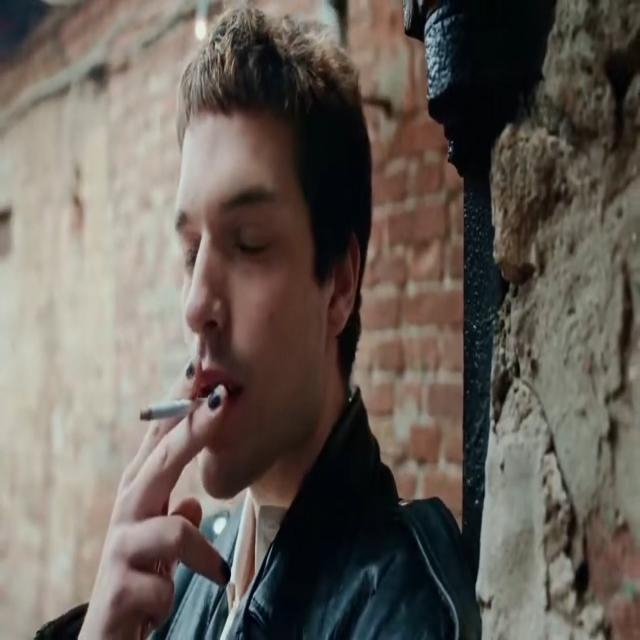Курение: (136, 394, 208, 424)
